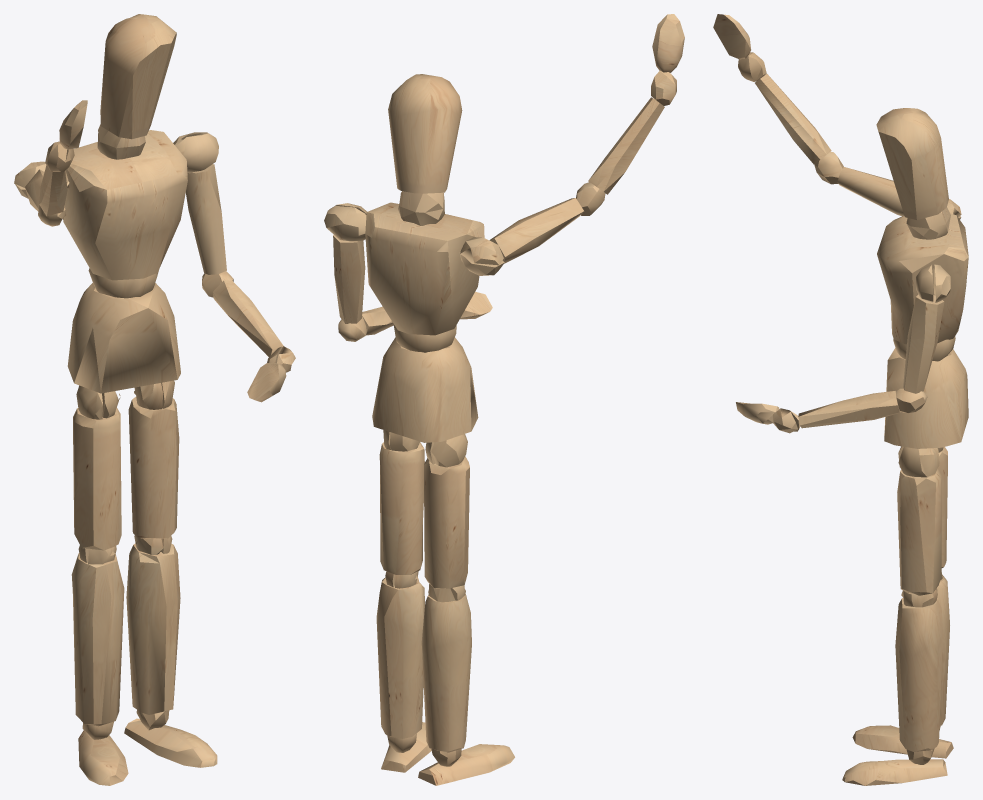
The model's file is Doll 1.FBX.
3 renders of one model, left to right at view 1: azimuth 30°, elevation 25°; view 2: azimuth 150°, elevation 25°; view 3: azimuth 270°, elevation 25°, orthographic. The views are drawn at different scales.
Parts seen in each view (by area): view 1: doll 1; view 2: doll 1; view 3: doll 1.
Boxes of the visible parts, box(x1,y1,x2,y2) form: doll 1: box(14, 14, 295, 785); doll 1: box(324, 14, 684, 785); doll 1: box(713, 14, 968, 785).
Bounding box in the file's own units: 12.36 × 32.95 × 11.2.
1 material, 1 textured.
